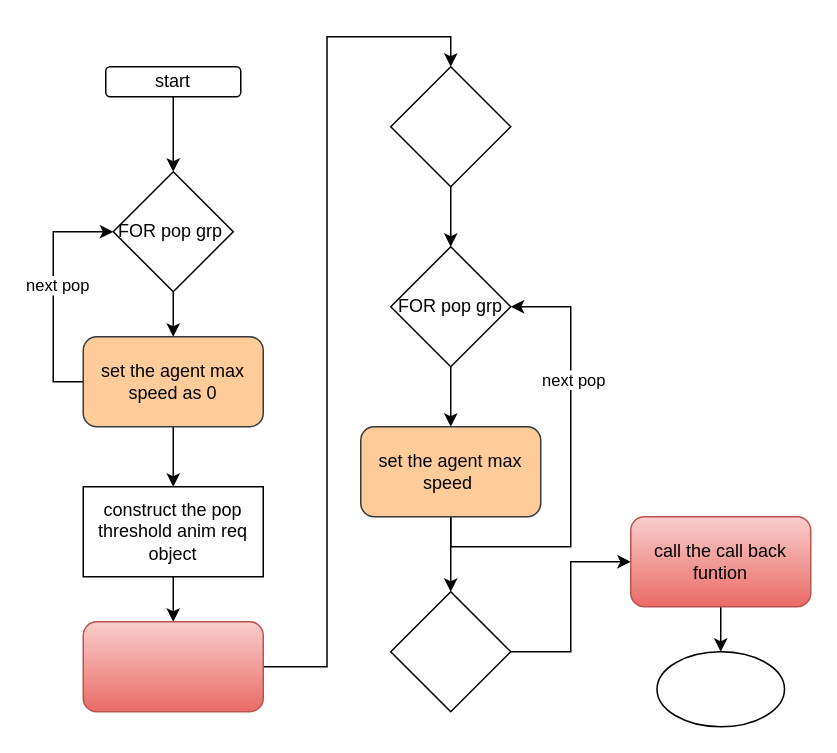
Some shapes in this 837 by 753 pixel diagram are drawn without their labels. The centre of each missing label's shape, as x and y in pixels:
"call set animation for set the animation to grp" belongs at point (172, 666).
"end" belongs at point (720, 688).
"IF callback not udnedind" belongs at point (450, 651).
"TIMEOUT 4 SEC" belongs at point (450, 126).
